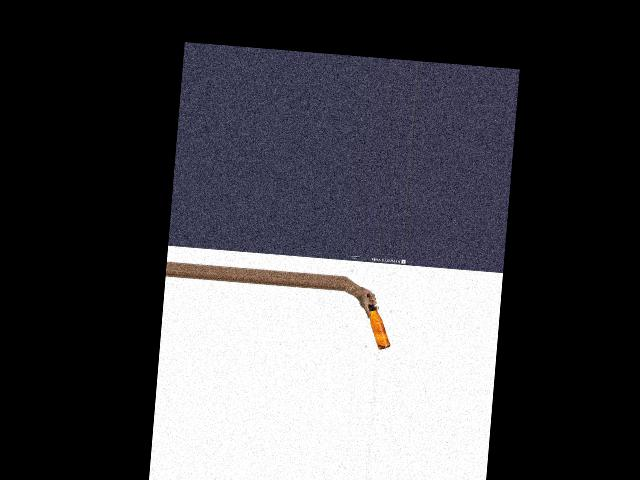beer: (363, 294, 393, 351)
